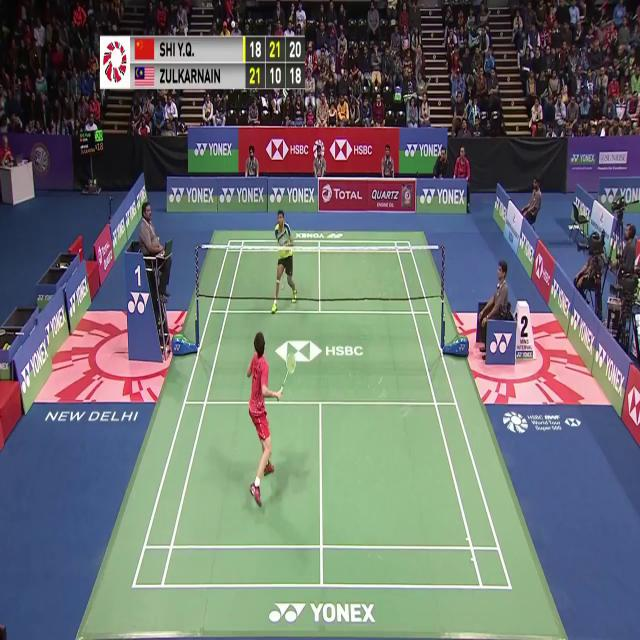Shuttlecock: (229, 19, 236, 31)
